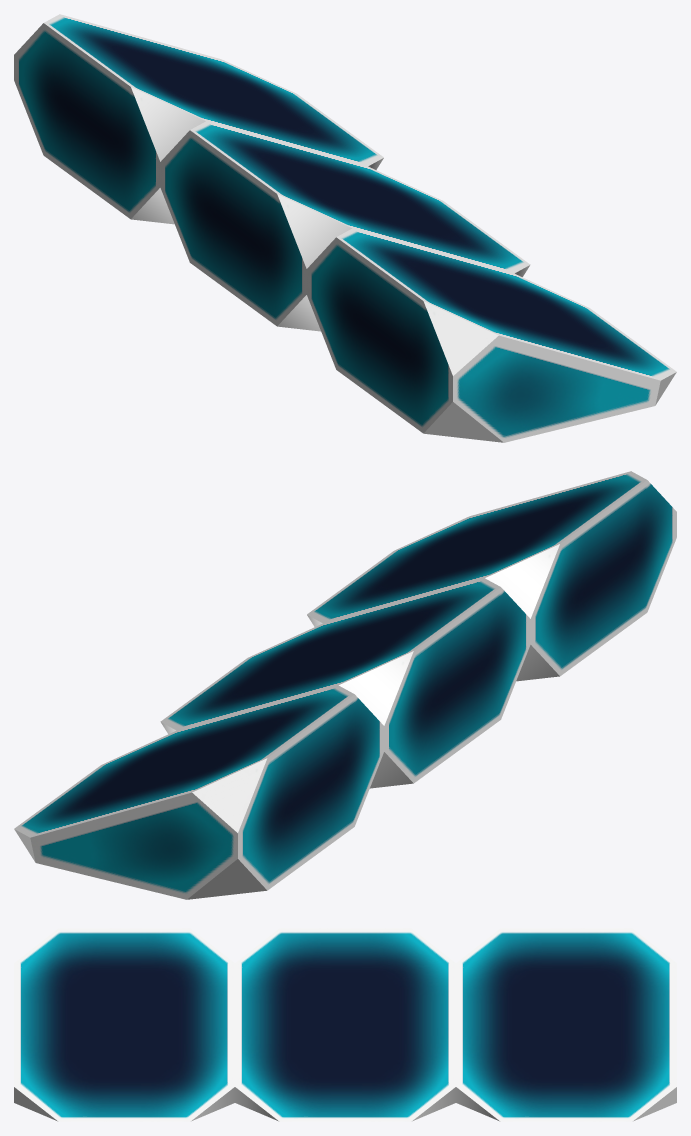
Rendered from MG-ChJ-CS-04BianPo-3.FBX.
3 renders of one model, top to bottom at view 1: azimuth 30°, elevation 25°; view 2: azimuth 150°, elevation 25°; view 3: azimuth 270°, elevation 25°, orthographic. The views are drawn at different scales.
Visible parts, largest first — view 1: MG-ChJ-CS-04BianPo-3; view 2: MG-ChJ-CS-04BianPo-3; view 3: MG-ChJ-CS-04BianPo-3.
Boxes of the visible parts, x1=… form: MG-ChJ-CS-04BianPo-3: x1=14, y1=14, x2=676, y2=442; MG-ChJ-CS-04BianPo-3: x1=14, y1=471, x2=676, y2=899; MG-ChJ-CS-04BianPo-3: x1=14, y1=928, x2=676, y2=1121.
Size of the model in its own units: 39.37 by 19.69 by 118.
